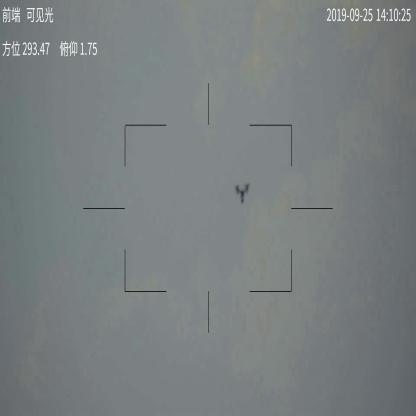uav: (234, 183, 250, 204)
